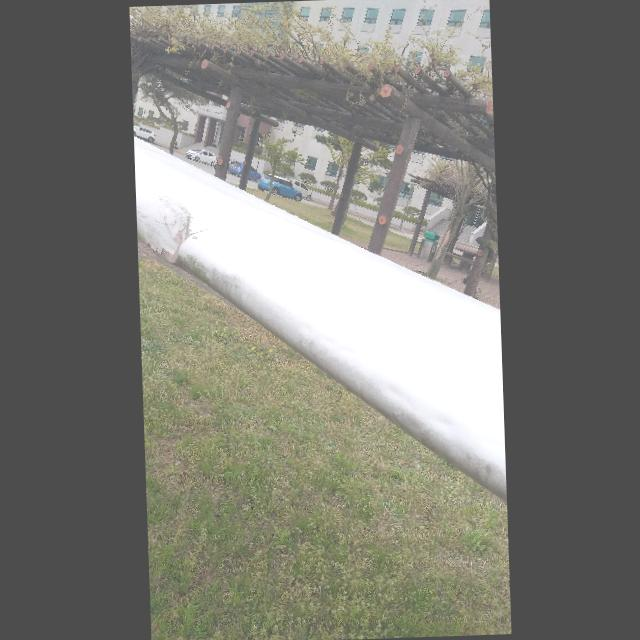dent: (139, 192, 194, 262)
